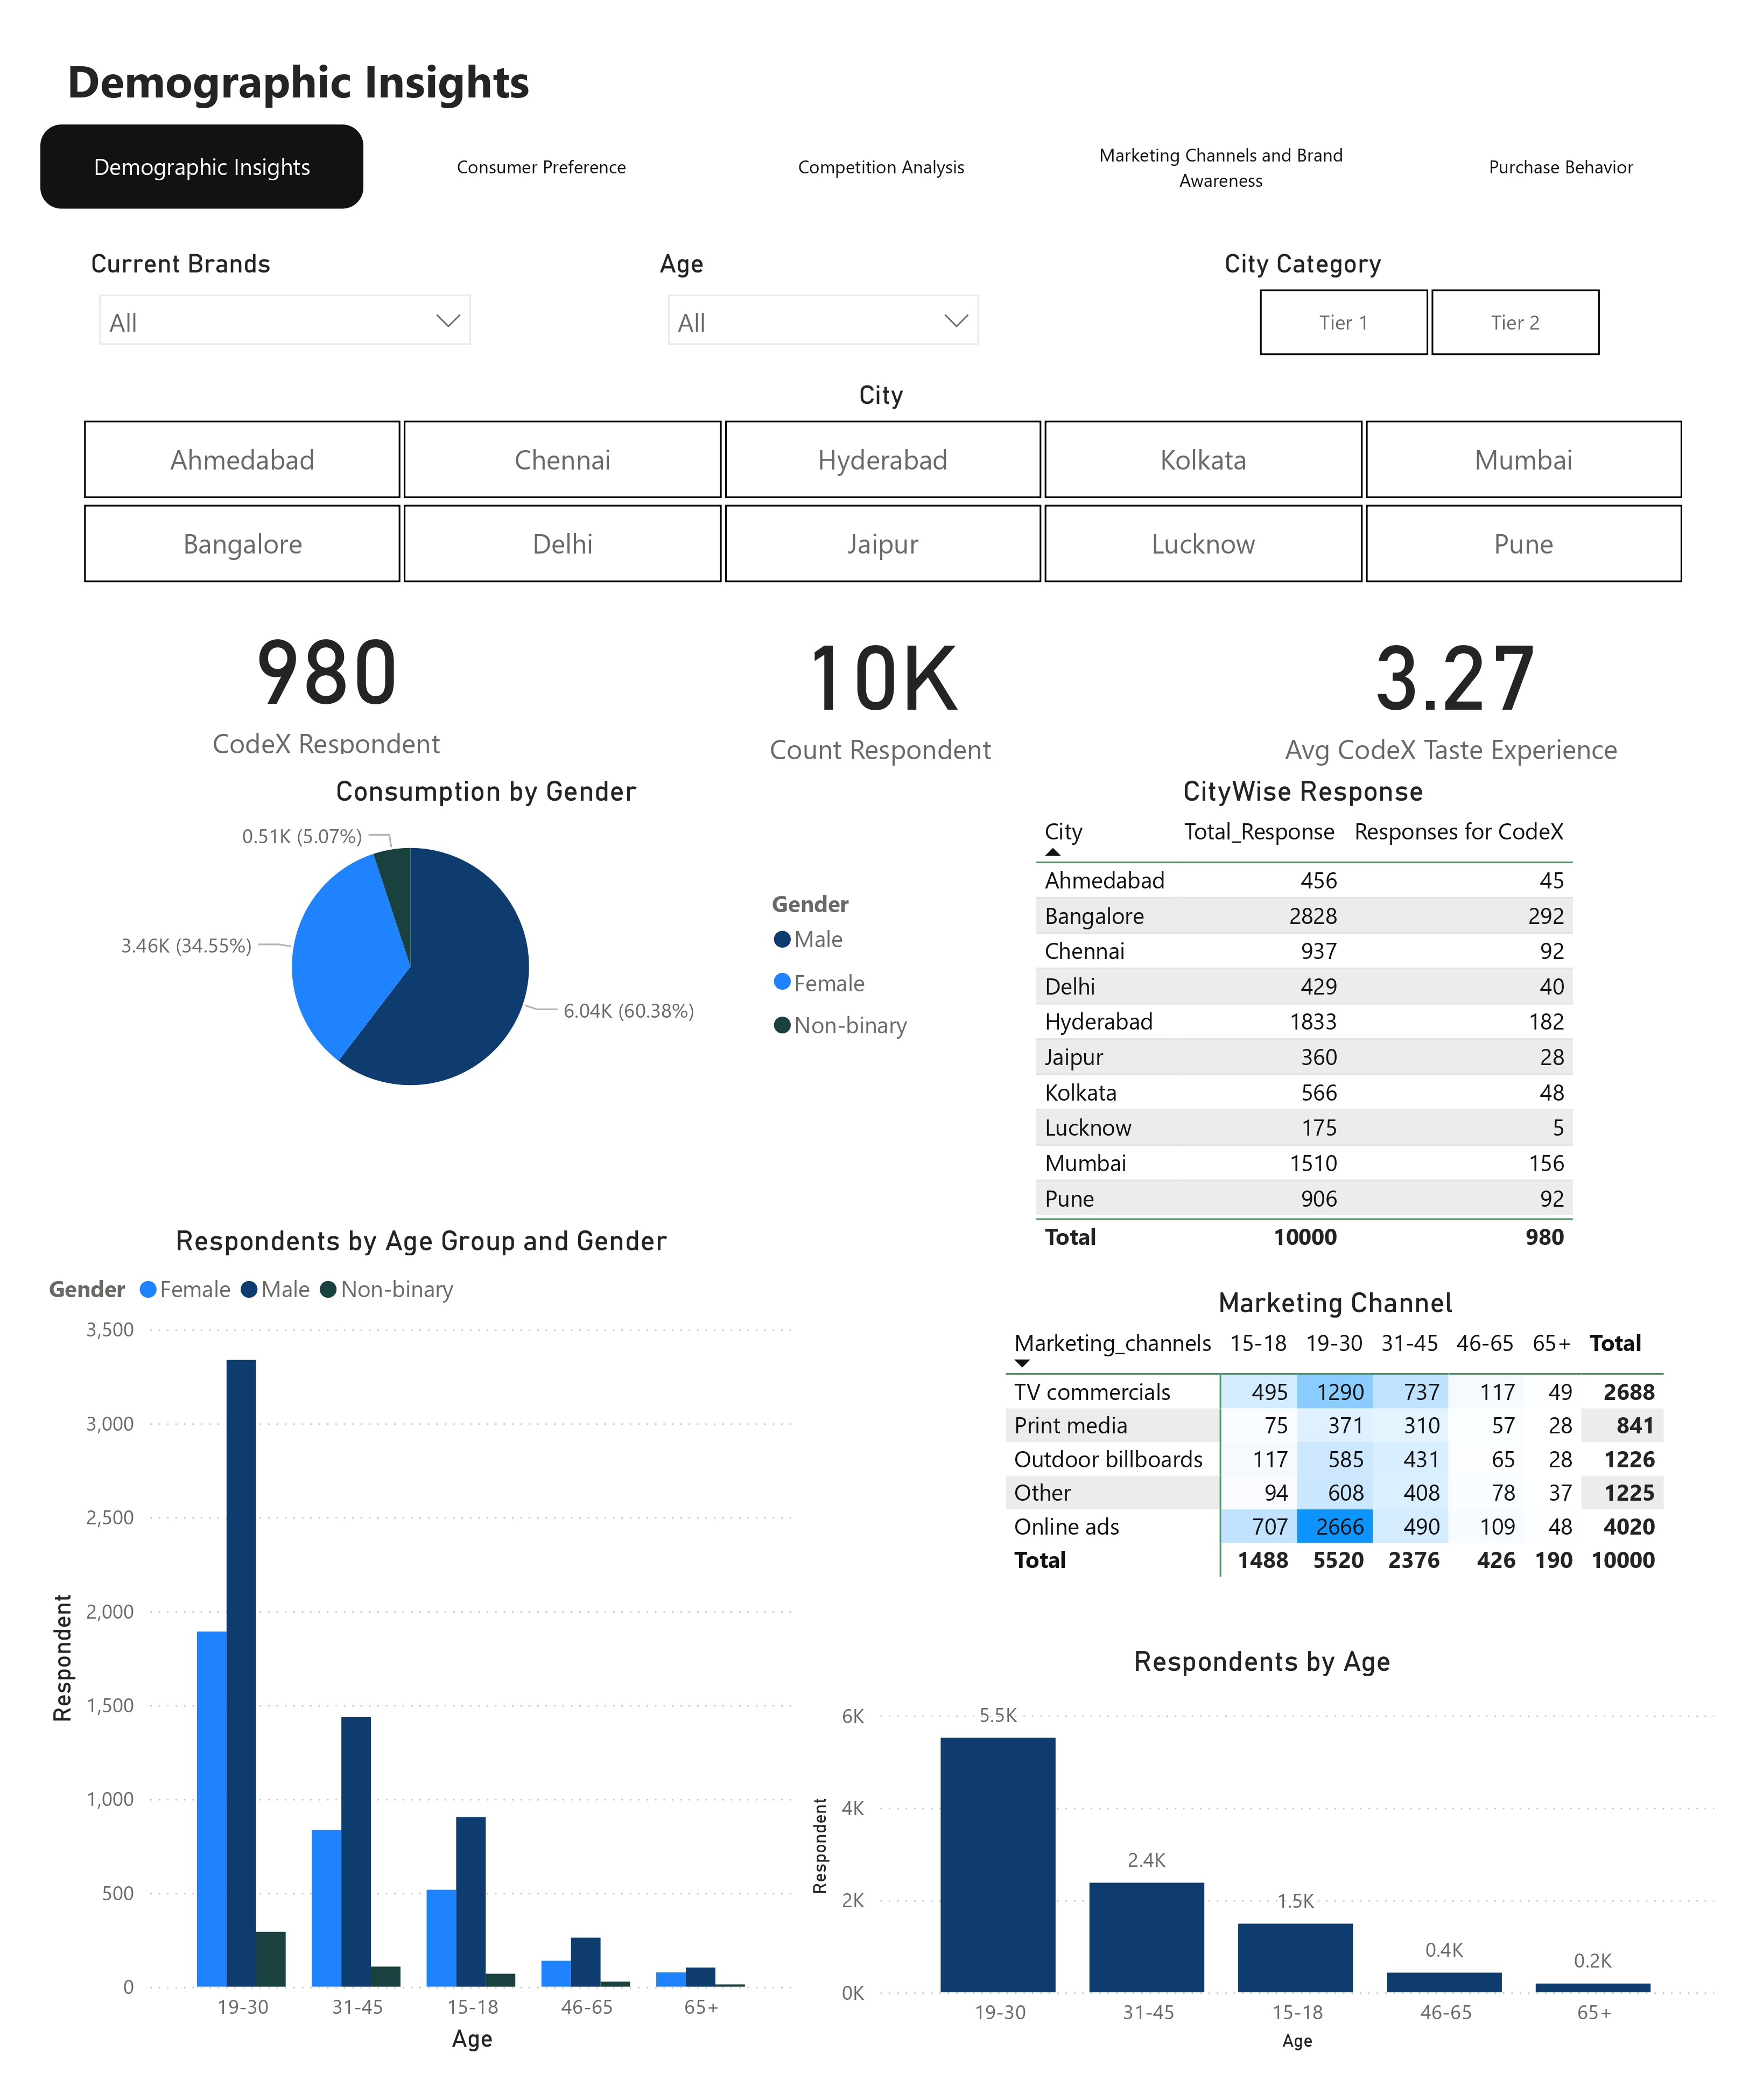

Layout of this report page (visuals, bound fields, positions):
{"tool":"powerbi","page":{"name":"Demographic Insights ","canvas":[1000,1200],"ordinal":0},"visuals":[{"type":"textbox","box":[10,0,293.8,75],"z":0},{"type":"slicer","title":"Current Brands ","fields":{"Values":["fact_survey_responses.Current_brands"]},"box":[25,122.5,241.2,71.2],"z":1000},{"type":"slicer","title":"City Category ","fields":{"Values":["dim_cities.Tier"]},"box":[698.8,122.5,252.5,71.2],"z":3000},{"type":"slicer","title":"Age ","fields":{"Values":["dim_repondents.Age"]},"box":[362.5,122.5,205,71.2],"z":4000},{"type":"slicer","title":"City","fields":{"Values":["dim_cities.City"]},"box":[0,201.2,1000,127.5],"z":5000},{"type":"card","title":"Count Responedent ","fields":{"Values":["Count(dim_repondents.Respondent_ID)"]},"box":[383.8,328.8,231.2,107.5],"z":6000},{"type":"card","fields":{"Values":["dim_cities.avg_codex_response"]},"box":[61.2,328.8,217.5,100],"z":7000},{"type":"card","fields":{"Values":["Dax_notes.Codex_taste_exp"]},"box":[731.2,328.8,220,107.5],"z":8000},{"type":"tableEx","title":"CityWise Response","fields":{"Values":["dim_cities.City","CountNonNull(fact_survey_responses.Response_ID)","Dax_notes.response_codex"]},"box":[585.7,435.7,330,304.3],"z":9000},{"type":"columnChart","title":"Respondents by Age","fields":{"Y":["CountNonNull(dim_repondents.Respondent_ID)"],"Category":["dim_repondents.Age"]},"box":[452.5,952.5,547.5,247.5],"z":10000},{"type":"pieChart","title":"Consumption by Gender","fields":{"Category":["dim_repondents.Gender"],"Y":["CountNonNull(dim_repondents.Respondent_ID)"]},"box":[0,436.2,530,210],"z":11000},{"type":"clusteredColumnChart","title":"Respondents by Age Group and Gender","fields":{"Category":["dim_repondents.Age"],"Y":["CountNonNull(dim_repondents.Respondent_ID)"],"Series":["dim_repondents.Gender"]},"box":[0,702.9,452.9,497.1],"z":12000},{"type":"pivotTable","title":"Marketing Channel","fields":{"Columns":["dim_repondents.Age"],"Rows":["fact_survey_responses.Marketing_channels"],"Values":["CountNonNull(dim_repondents.Respondent_ID)"]},"box":[568.6,740,402.9,185.7],"z":13000},{"type":"pageNavigator","box":[0,50,1000,50],"z":14001}]}

Visuals, with their boxes in screenshot pixels (x1, y1, x2, y2):
textbox: crop(57, 40, 551, 166)
"Current Brands " slicer: crop(82, 247, 488, 366)
"City Category " slicer: crop(1216, 247, 1641, 366)
"Age " slicer: crop(650, 247, 995, 366)
"City" slicer: crop(40, 379, 1723, 593)
"Count Responedent " card: crop(686, 593, 1075, 774)
card - dim_cities.avg_codex_response: crop(143, 593, 509, 762)
card - Dax_notes.Codex_taste_exp: crop(1270, 593, 1641, 774)
"CityWise Response" tableEx: crop(1026, 774, 1581, 1286)
"Respondents by Age" columnChart: crop(802, 1643, 1723, 2060)
"Consumption by Gender" pieChart: crop(40, 774, 932, 1128)
"Respondents by Age Group and Gender" clusteredColumnChart: crop(40, 1223, 802, 2060)
"Marketing Channel" pivotTable: crop(997, 1286, 1675, 1598)
pageNavigator: crop(40, 124, 1723, 209)
